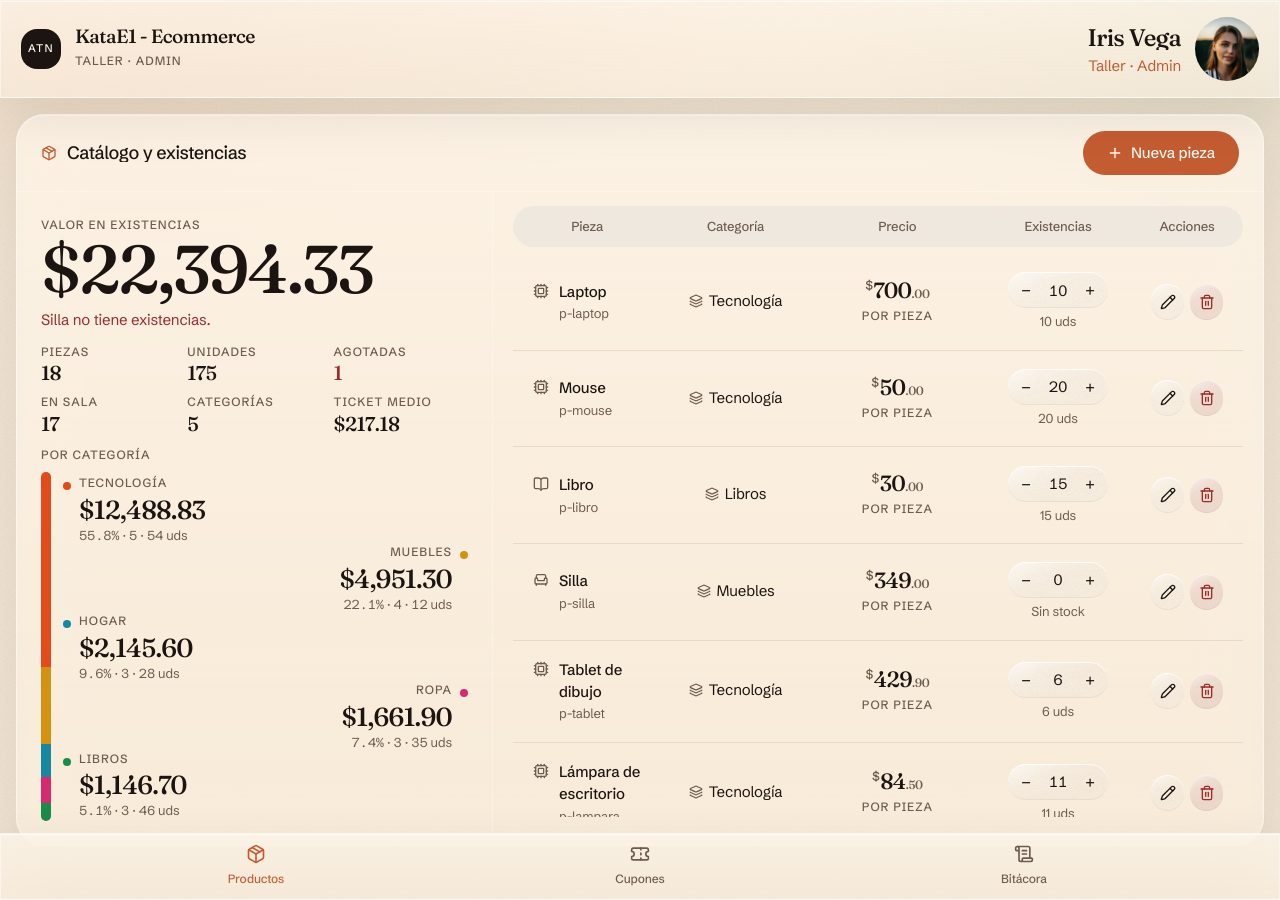
Test: AdminShell › switches modules from the mobile nav bar
Check: the navigation bar named "Barra de navegación" is shown, box [0, 833, 1279, 899]
Step 1. Click the button "Cupones" → (640, 867), box [448, 834, 832, 899]
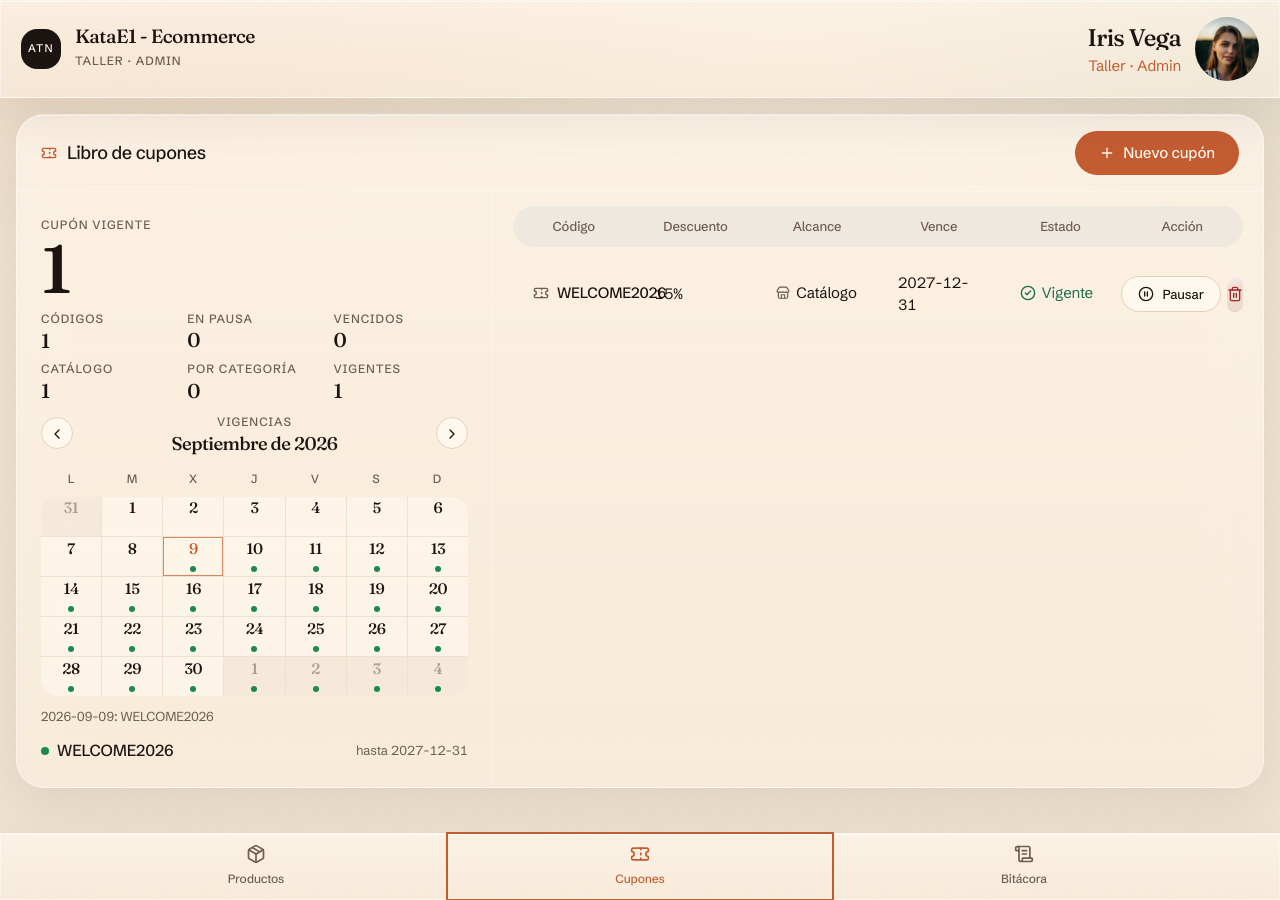
Check: the heading "Libro de cupones" is shown, box [67, 144, 206, 162]
